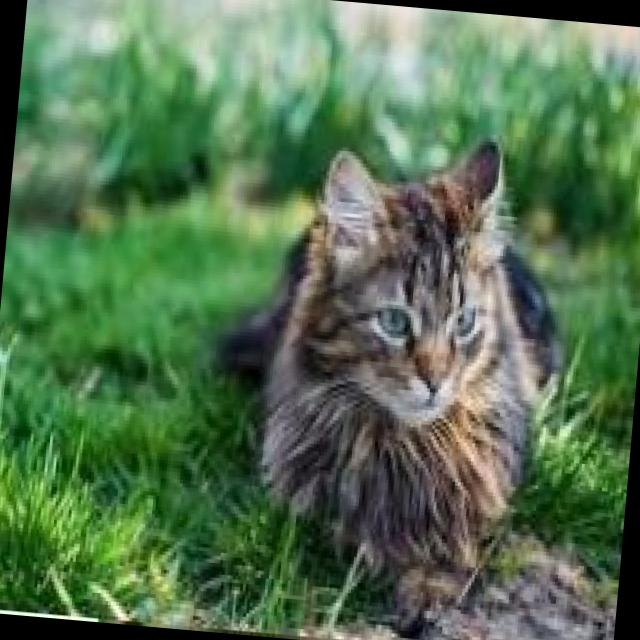Gato: (203, 109, 581, 640)
